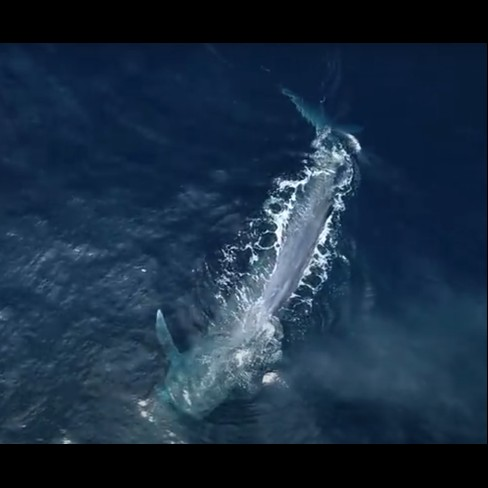bluewhale: (140, 81, 372, 439)
